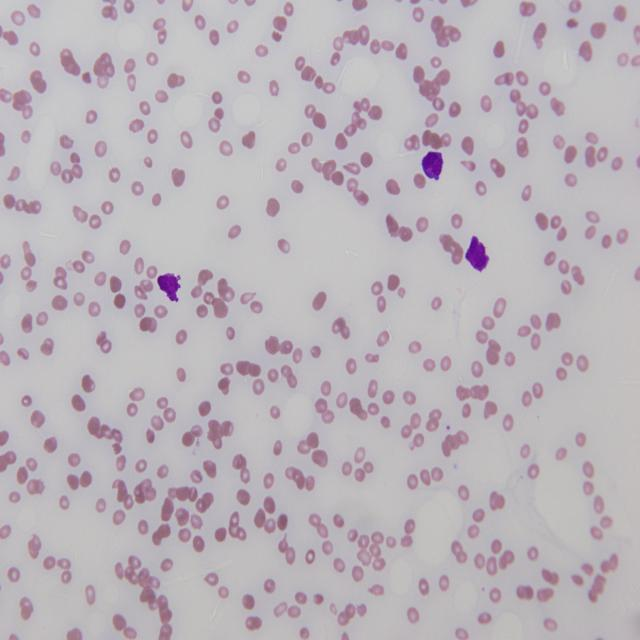cell: (465, 236, 489, 271), (158, 273, 180, 301), (421, 151, 442, 180)
